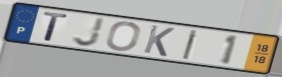1: (221, 34, 240, 66)
I: (181, 29, 201, 61)
J: (71, 16, 107, 48)
K: (141, 24, 177, 59)
O: (104, 21, 143, 52)
T: (41, 10, 71, 43)
